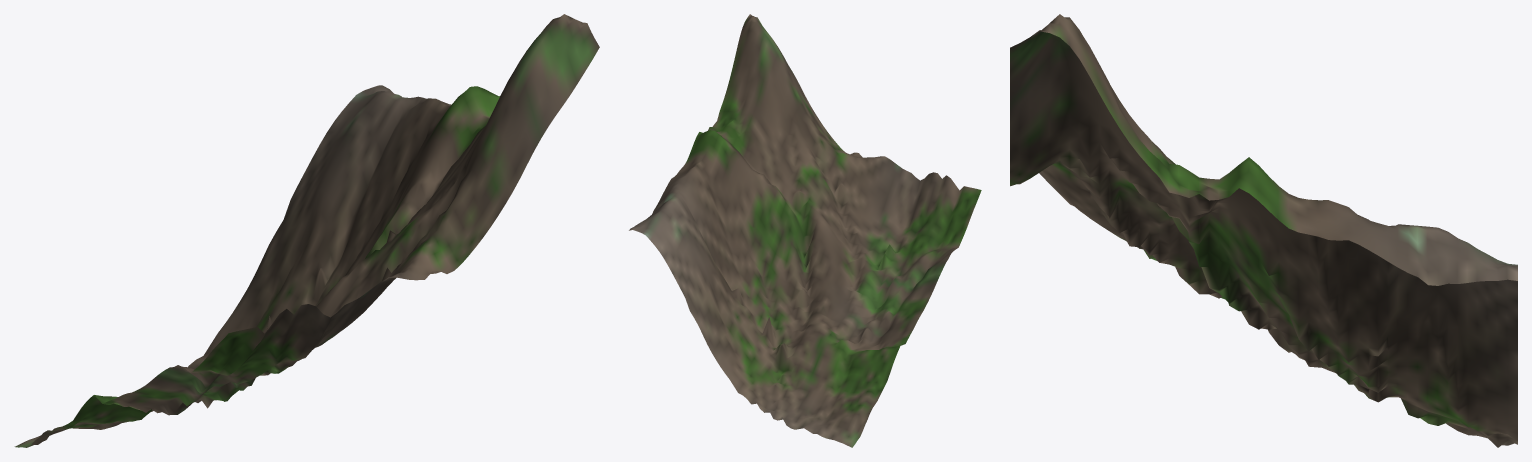
The model's file is chunk10-11_LOD0.obj.
The picture shows the model from 3 angles, left to right: view 1: azimuth 30°, elevation 25°; view 2: azimuth 150°, elevation 25°; view 3: azimuth 270°, elevation 25°; orthographic projection. The views are drawn at different scales.
Visible parts, largest first — view 1: chunk_10_11_LOD0; view 2: chunk_10_11_LOD0; view 3: chunk_10_11_LOD0.
Part boxes in pixels (left/top/right/bottom): chunk_10_11_LOD0: left=14, top=14, right=599, bottom=447; chunk_10_11_LOD0: left=629, top=14, right=981, bottom=447; chunk_10_11_LOD0: left=1010, top=14, right=1517, bottom=447.
Size of the model in its own units: 1994 by 2501 by 1994.
1 material, 1 textured.
